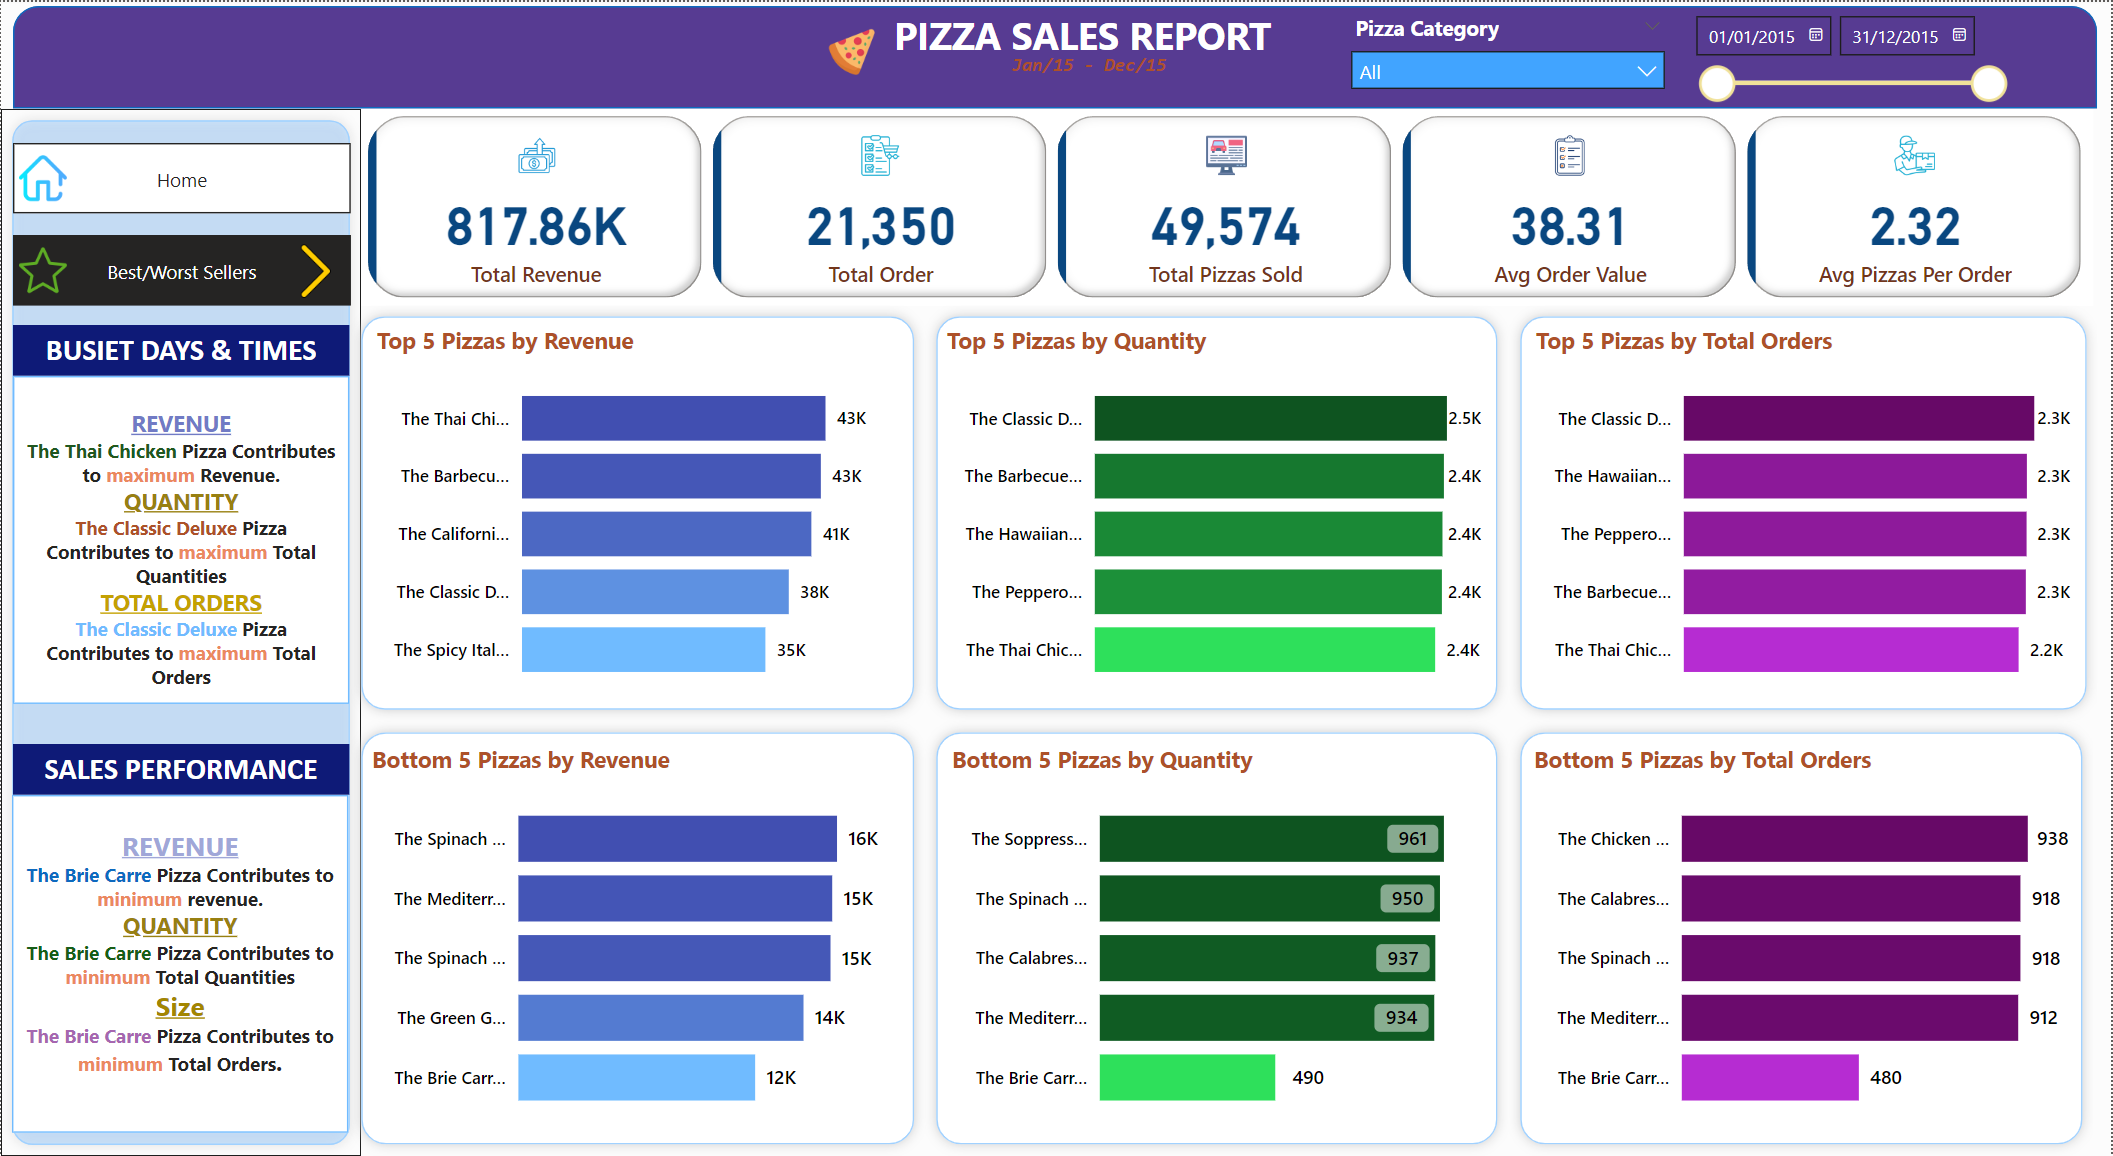

The page's visual inventory and layout, read from the dashboard file:
{"tool":"powerbi","page":{"name":"Best/Worst Sellers","canvas":[1500,820],"ordinal":1},"visuals":[{"type":"shape","box":[0,75.7,255.9,744.1],"z":0},{"type":"cardVisual","fields":{"Data":["pizza_sales.Total Revenue","pizza_sales.Total Order","pizza_sales.Total Pizzas Sold","pizza_sales.Avg Order Value","pizza_sales.Avg Pizzas Per Order"]},"box":[255.9,75.7,1230.9,139.7],"z":1000},{"type":"shape","box":[8.8,2.9,1480.9,72.8],"z":2000},{"type":"textbox","box":[629.4,0,287.5,45.6],"z":3000},{"type":"textbox","box":[704.4,30.1,137.5,27.2],"z":4000},{"type":"image","box":[575.7,13.2,58.8,44.1],"z":5000},{"type":"shape","box":[247.8,215.4,408.8,295.6],"z":6000},{"type":"textbox","box":[8.8,229.4,239,36],"z":7000},{"type":"textbox","box":[8.8,265.4,239,233.1],"z":8000},{"type":"textbox","box":[8.8,527.2,239,36],"z":9000},{"type":"textbox","box":[8.1,563.2,239,240.4],"z":10000},{"type":"slicer","fields":{"Values":["pizza_sales.pizza_category"]},"box":[949.3,2.9,242.6,64.7],"z":11000},{"type":"slicer","fields":{"Values":["pizza_sales.order_date"]},"box":[1191.9,0,242.6,75.7],"z":12000},{"type":"shape","box":[656.6,215.4,414.7,295.6],"z":13000},{"type":"shape","box":[1071.3,215.4,418.4,295.6],"z":14000},{"type":"shape","box":[247.8,511,408.8,308.8],"z":15000},{"type":"shape","box":[656.6,511,414.7,308.8],"z":16000},{"type":"shape","box":[1071.3,511,415.4,308.8],"z":17000},{"type":"barChart","title":"Top 5 Pizzas by Revenue","fields":{"Category":["pizza_sales.pizza_name"],"Y":["pizza_sales.Total Revenue"]},"box":[262.5,229.4,379.4,269.1],"z":18000},{"type":"barChart","title":"Bottom 5 Pizzas by Revenue","fields":{"Category":["pizza_sales.pizza_name"],"Y":["pizza_sales.Total Revenue"]},"box":[258.8,527.2,383.1,276.5],"z":19000},{"type":"barChart","title":"Bottom 5 Pizzas by Quantity","fields":{"Category":["pizza_sales.pizza_name"],"Y":["pizza_sales.Total Pizzas Sold"]},"box":[670.6,527.2,386,276.5],"z":20000},{"type":"barChart","title":"Top 5 Pizzas by Quantity","fields":{"Category":["pizza_sales.pizza_name"],"Y":["pizza_sales.Total Pizzas Sold"]},"box":[666.9,229.4,389.7,269.1],"z":21000},{"type":"barChart","title":"Top 5 Pizzas by Total Orders","fields":{"Category":["pizza_sales.pizza_name"],"Y":["pizza_sales.Total Order"]},"box":[1086,229.4,389.7,269.1],"z":22000},{"type":"barChart","title":"Bottom 5 Pizzas by Total Orders","fields":{"Category":["pizza_sales.pizza_name"],"Y":["pizza_sales.Total Order"]},"box":[1084.6,527.2,389.7,276.5],"z":23000},{"type":"pageNavigator","box":[8.5,165.3,240.1,50.1],"z":24000},{"type":"pageNavigator","box":[8.5,100.3,240.1,50.1],"z":25000},{"type":"image","box":[199.9,166,48,49.4],"z":26000},{"type":"image","box":[7.8,100.3,43.8,50.1],"z":27000},{"type":"image","box":[7.8,165.3,43.8,50.1],"z":28000}]}

Visuals, with their boxes in screenshot pixels (x1, y1, x2, y2), scaled from the page's 1500x820 canvas onto the 2113x1156 screenshot:
shape: 0/107/360/1155
cardVisual - pizza_sales.Total Revenue x pizza_sales.Total Order: 360/107/2094/304
shape: 12/4/2098/107
textbox: 887/0/1292/64
textbox: 992/42/1186/81
image: 811/19/894/81
shape: 349/304/925/720
textbox: 12/323/349/374
textbox: 12/374/349/703
textbox: 12/743/349/794
textbox: 11/794/348/1133
slicer - pizza_sales.pizza_category: 1337/4/1679/95
slicer - pizza_sales.order_date: 1679/0/2021/107
shape: 925/304/1509/720
shape: 1509/304/2098/720
shape: 349/720/925/1155
shape: 925/720/1509/1155
shape: 1509/720/2094/1155
"Top 5 Pizzas by Revenue" barChart: 370/323/904/703
"Bottom 5 Pizzas by Revenue" barChart: 365/743/904/1133
"Bottom 5 Pizzas by Quantity" barChart: 945/743/1488/1133
"Top 5 Pizzas by Quantity" barChart: 939/323/1488/703
"Top 5 Pizzas by Total Orders" barChart: 1530/323/2079/703
"Bottom 5 Pizzas by Total Orders" barChart: 1528/743/2077/1133
pageNavigator: 12/233/350/304
pageNavigator: 12/141/350/212
image: 282/234/349/304
image: 11/141/73/212
image: 11/233/73/304
